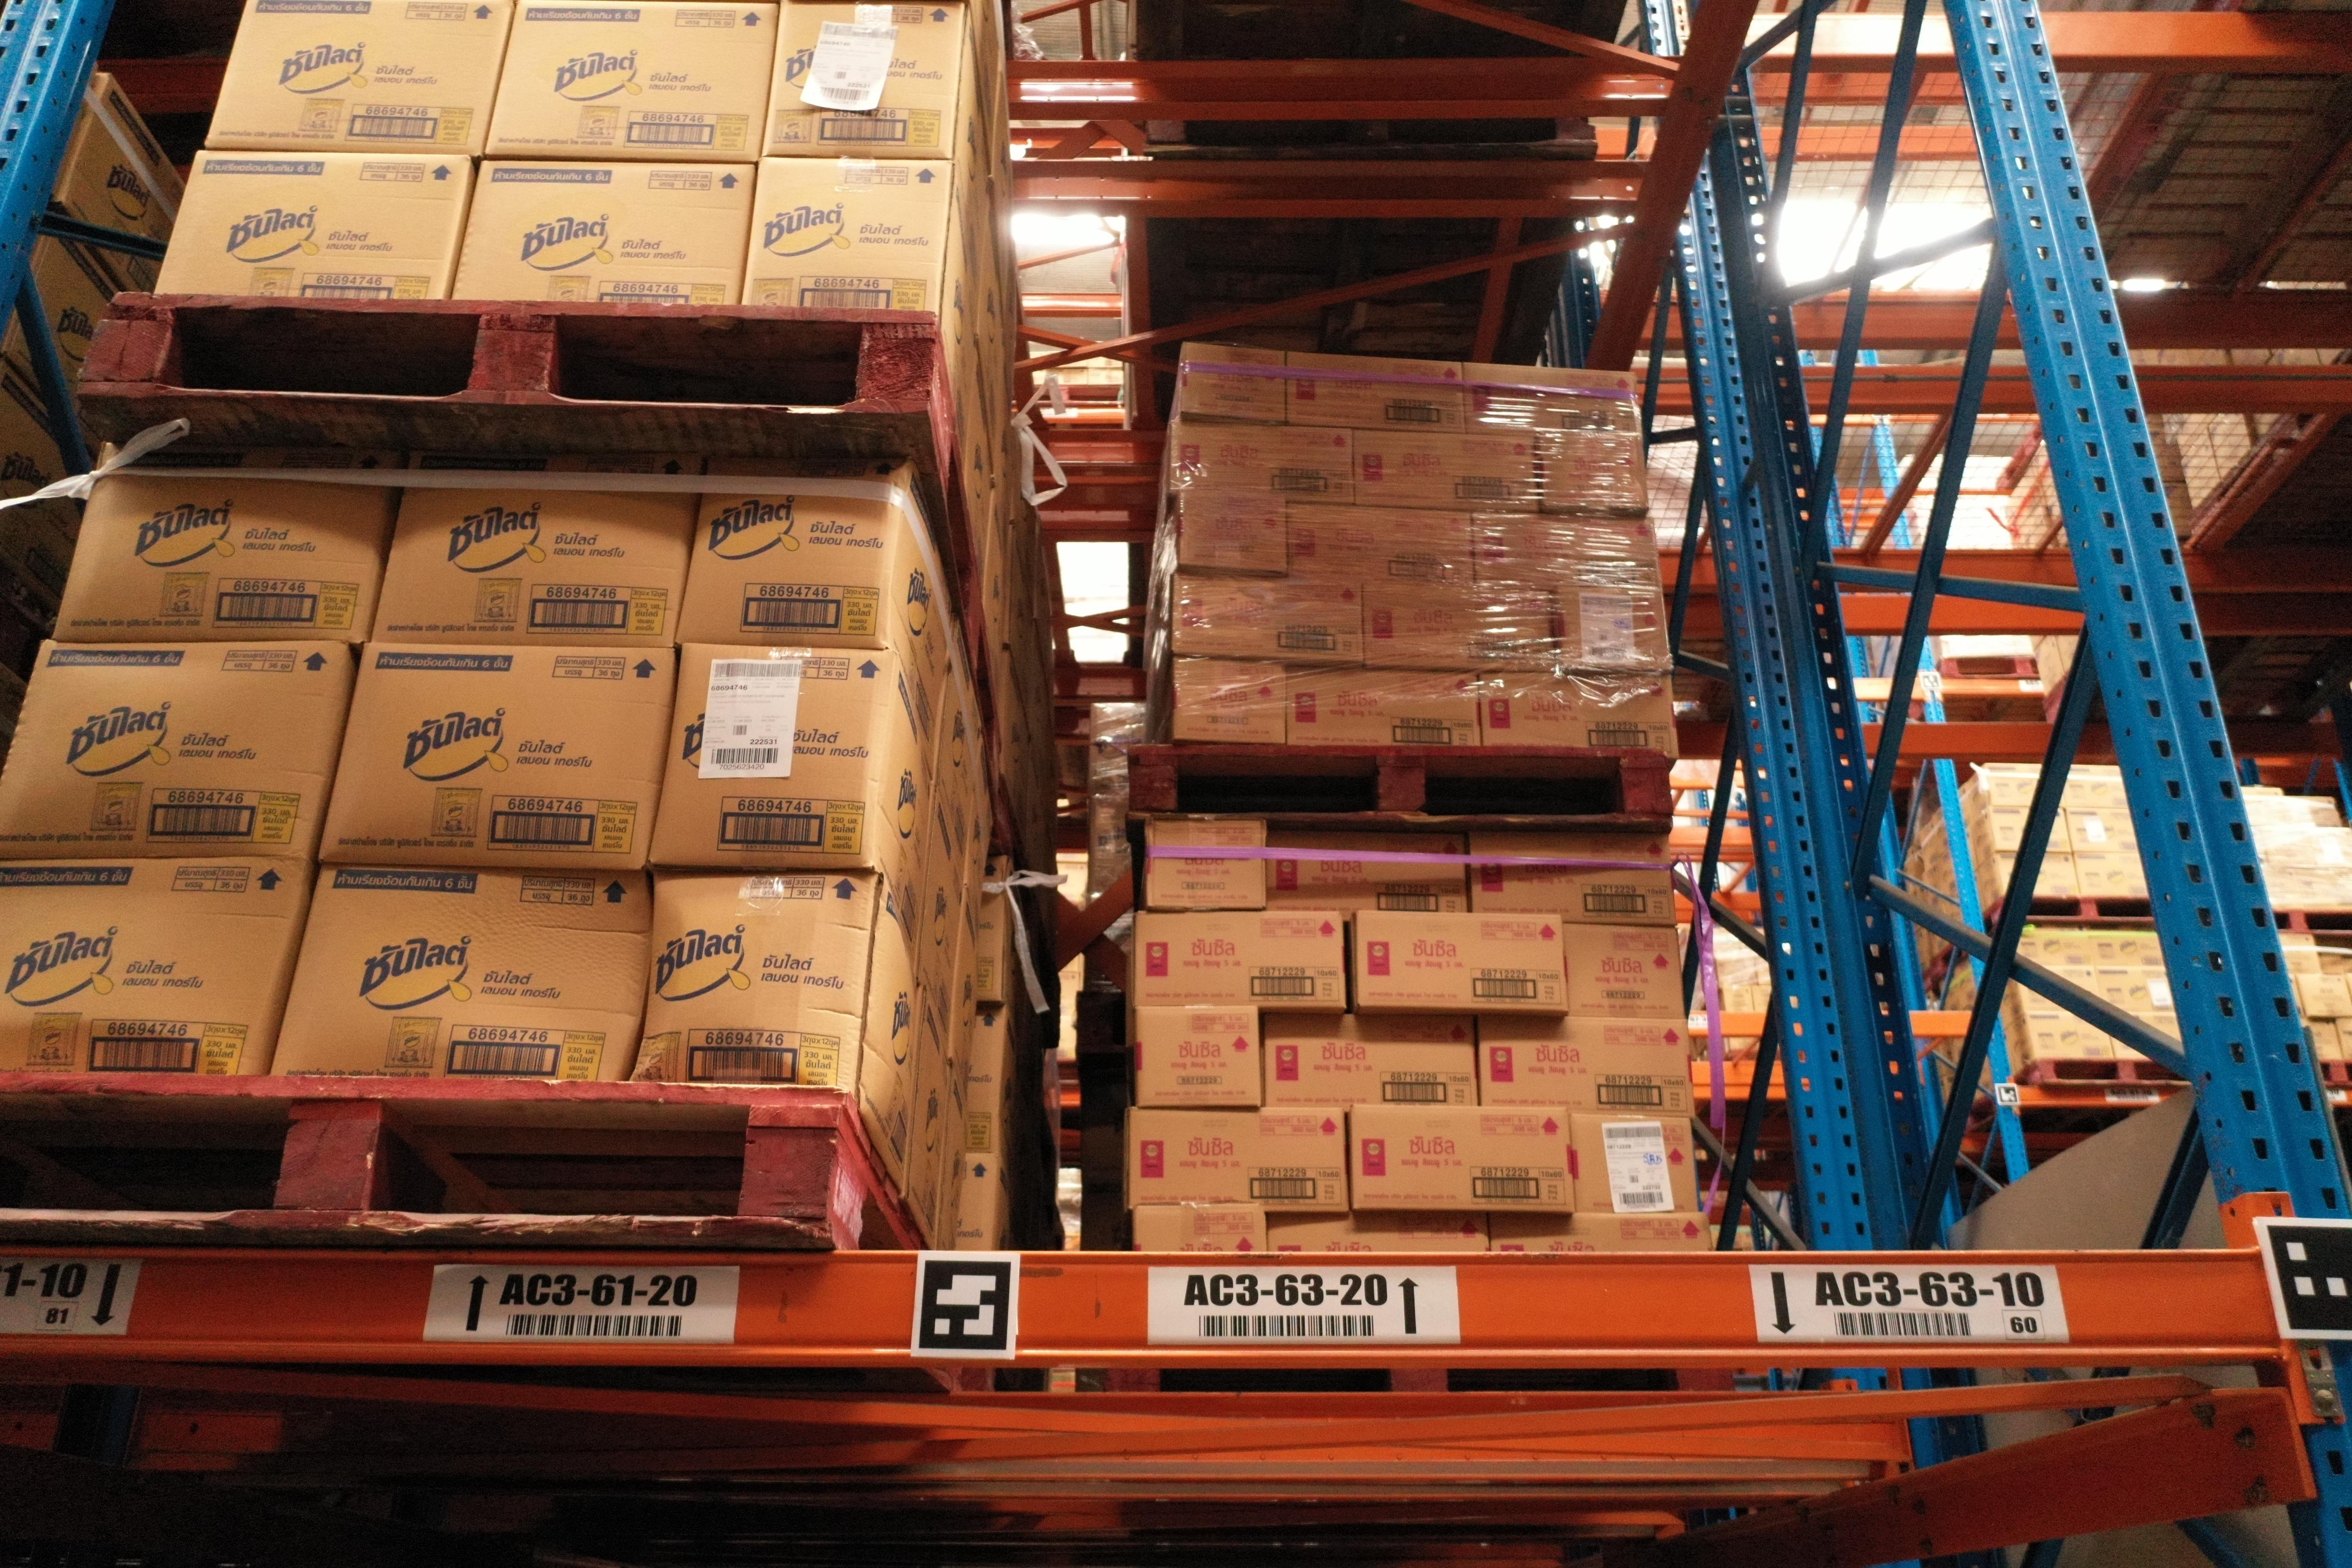-: (315, 637, 675, 873), (266, 864, 651, 1080), (0, 637, 352, 864), (0, 856, 308, 1074), (49, 467, 395, 647), (625, 870, 882, 1094), (647, 640, 894, 868), (369, 478, 698, 644), (203, 0, 518, 154), (483, 0, 780, 163), (152, 149, 472, 297), (448, 156, 756, 304), (672, 481, 901, 649), (738, 156, 954, 311), (759, 0, 966, 161)
box: (1351, 1104, 1575, 1214), (1127, 1106, 1346, 1211), (1473, 1013, 1696, 1116), (1354, 908, 1568, 1010), (1262, 1011, 1480, 1108), (1134, 910, 1344, 1008), (1466, 831, 1678, 926), (1171, 569, 1365, 665), (1360, 579, 1556, 674), (1265, 826, 1468, 912), (1475, 670, 1680, 754), (1286, 663, 1484, 747), (1169, 418, 1358, 504), (1286, 500, 1475, 584), (1353, 430, 1540, 511), (1468, 511, 1659, 590), (1284, 355, 1466, 430), (1461, 359, 1638, 436), (1568, 1109, 1697, 1213), (1139, 1004, 1263, 1108), (1564, 922, 1689, 1018), (1146, 819, 1265, 910), (1552, 586, 1673, 674), (1174, 653, 1288, 742), (1265, 1211, 1489, 1255), (1491, 1211, 1711, 1253), (1179, 492, 1288, 574), (1183, 343, 1288, 422), (1536, 436, 1647, 509), (1134, 1204, 1265, 1253)
